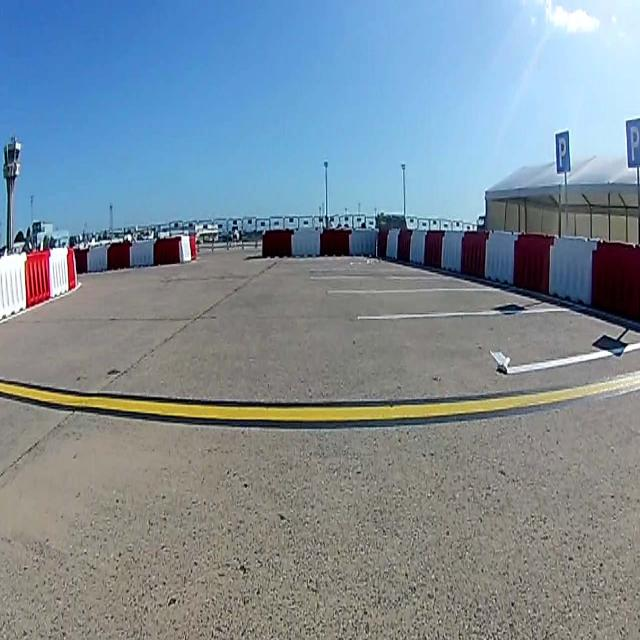park: (625, 119, 640, 167), (555, 130, 570, 173)
